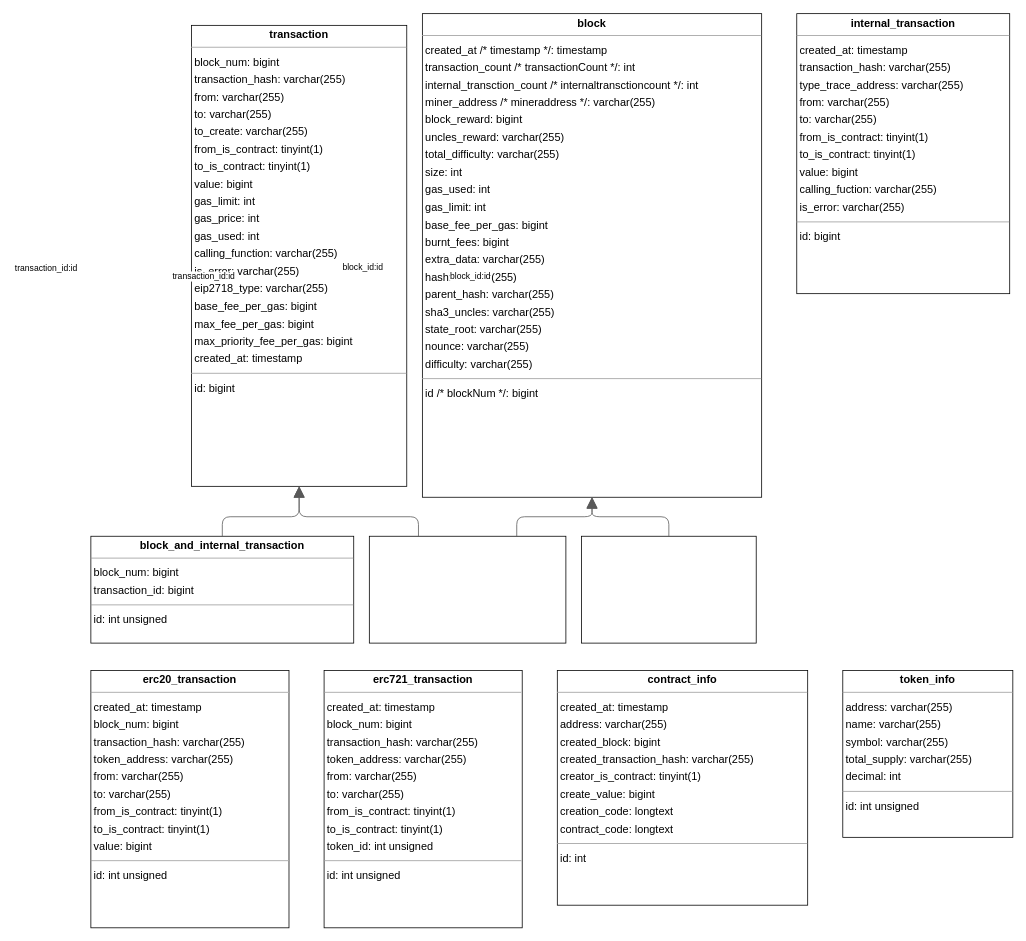
This 1026x941 diagram has some shape labels left out. The shapes that lost their labels are listed below. From the top down, each one's centre as x and y in pixels, then its label:
At (x=467, y=589): "block_and_transaction block_id: bigint transaction_id: bigint id: int unsigned".
At (x=668, y=589): "block_and_contract block_id: bigint contract_id: int unsigned id: int unsigned".
